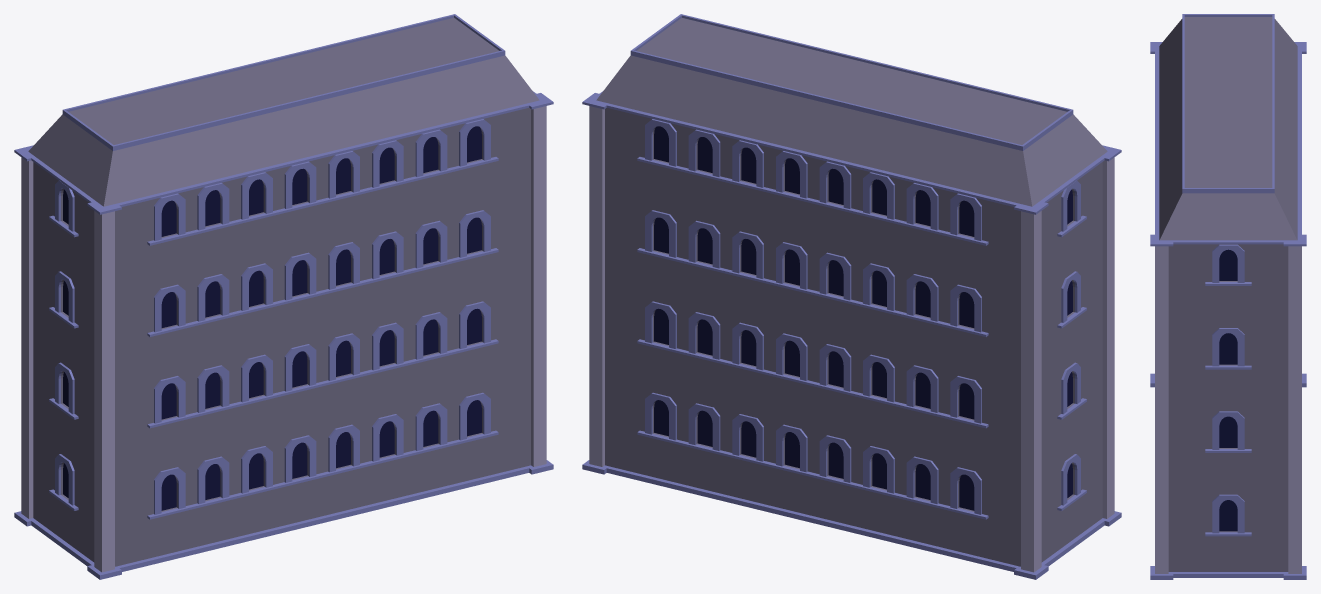
The model's file is House v4.001.fbx.
3 renders of one model, left to right at view 1: azimuth 30°, elevation 25°; view 2: azimuth 150°, elevation 25°; view 3: azimuth 270°, elevation 25°, orthographic. The views are drawn at different scales.
Parts seen in each view (by area): view 1: Building; view 2: Building; view 3: Building.
Boxes of the visible parts, x1,y1,x2,y2 form: Building: (14,14,553,579); Building: (582,14,1121,579); Building: (1150,14,1306,579).
Bounding box in the file's own units: 340 × 1040 × 905.
